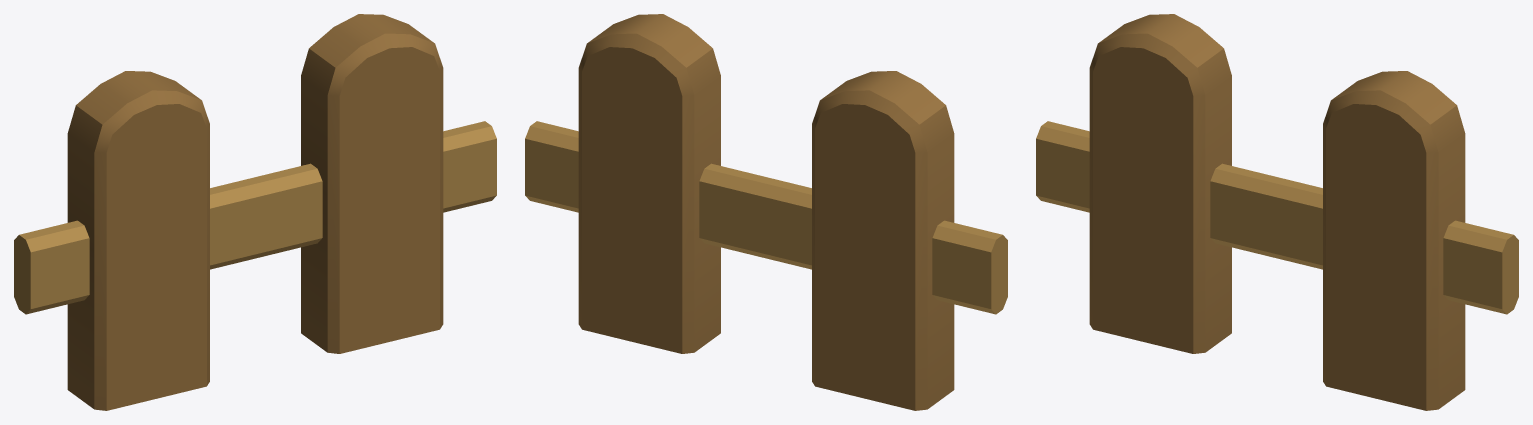
Rendered from Fence.glb.
3 views of the same model, side by side, from view 1: azimuth 30°, elevation 25°; view 2: azimuth 150°, elevation 25°; view 3: azimuth 330°, elevation 25° (orthographic).
Parts seen in each view (by area): view 1: Fence_Middle; view 2: Fence_Middle; view 3: Fence_Middle.
Part boxes in pixels (x1,y1,x2,y2): Fence_Middle: (14, 14, 496, 410); Fence_Middle: (525, 14, 1007, 410); Fence_Middle: (1036, 14, 1518, 410).
Size of the model in its own units: 2 by 1.25 by 0.2644.
